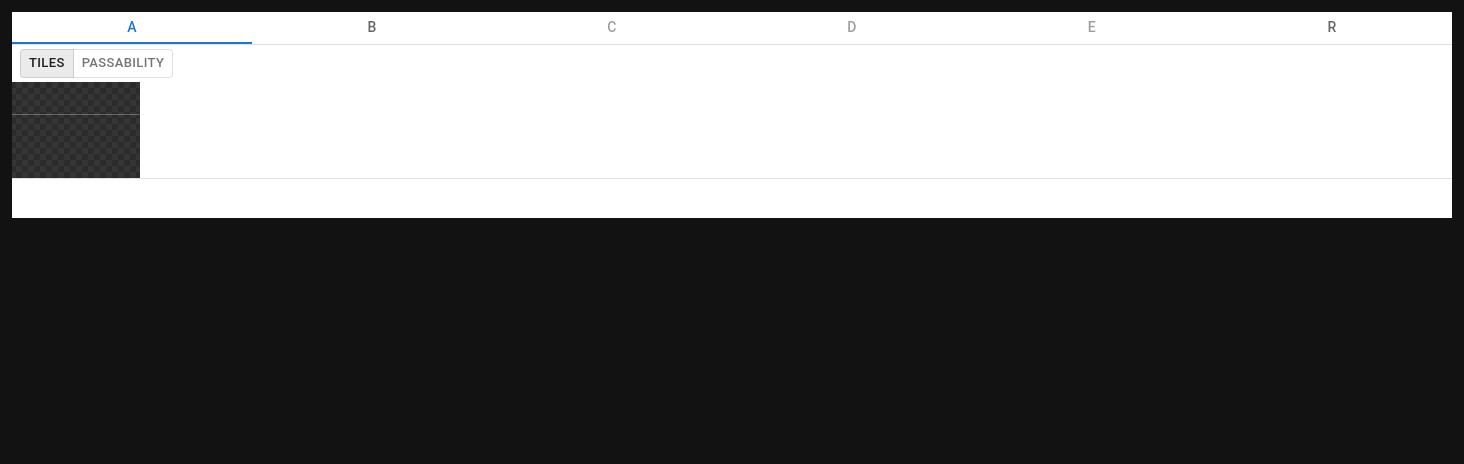
Scenario: the palette and the layers panel › opens the passability editor for every map to follow, and closes it with the palette
The image size is (1464, 464).
Expected: the element with test id "palette" is shown, [12,12,1452,218]
Click the button "Passability": [123, 63] box [73,49,173,78]
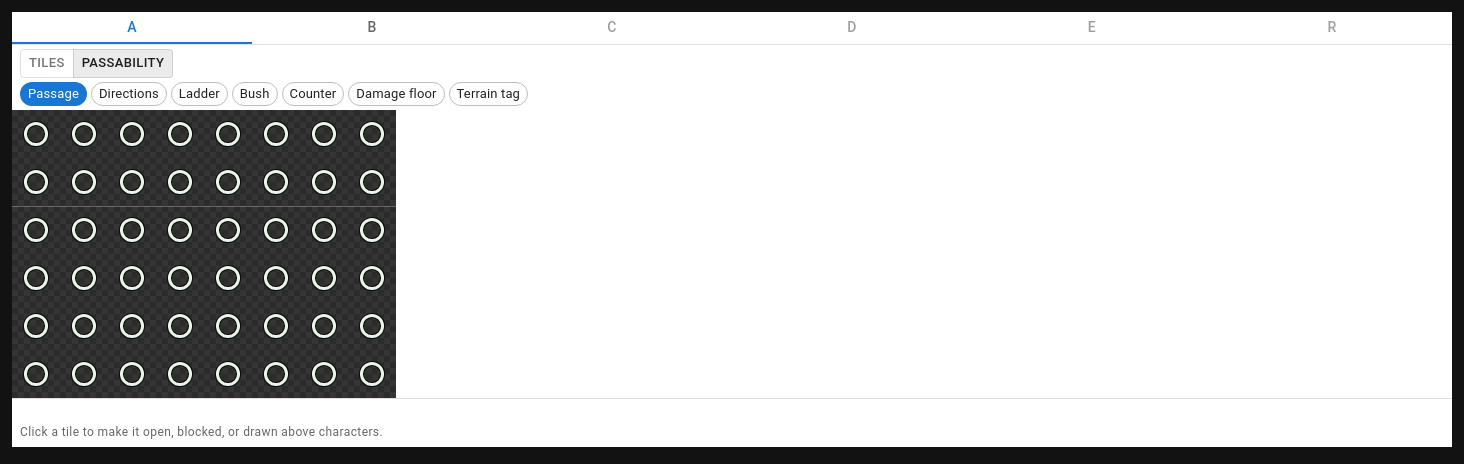
Result: the text "Terrain tag" is shown at [457,86,520,101]
